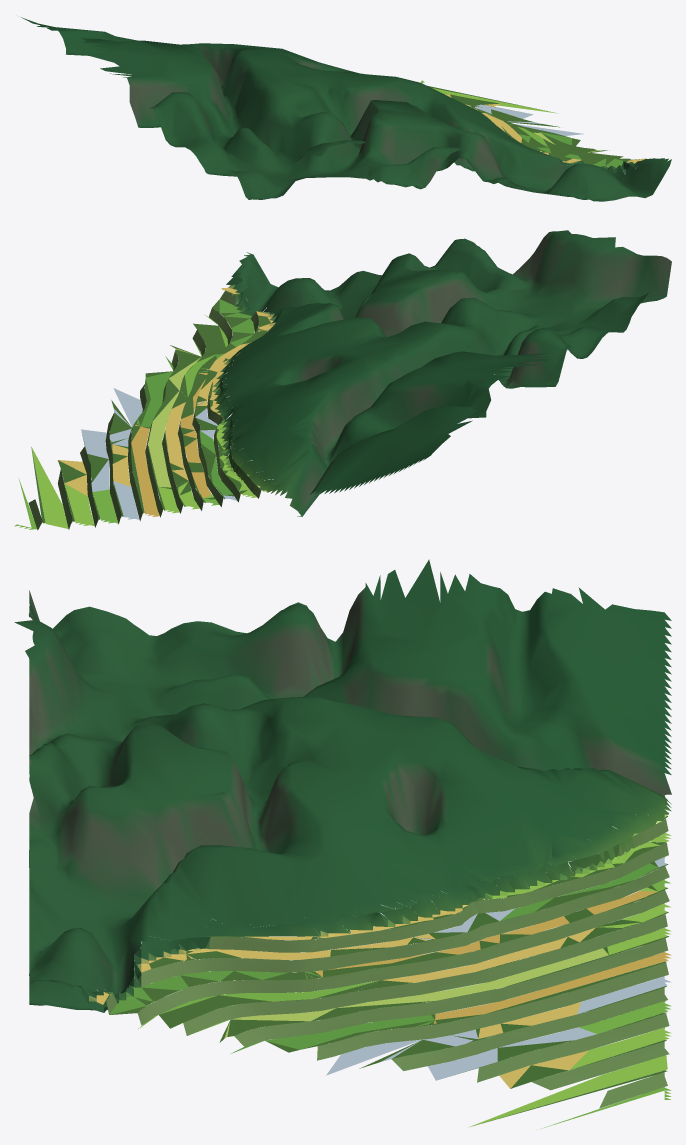
Rendered from payo_land_xm1_y5_lod1.glb.
3 renders of one model, top to bottom at view 1: azimuth 30°, elevation 25°; view 2: azimuth 150°, elevation 25°; view 3: azimuth 270°, elevation 25°, orthographic. The views are drawn at different scales.
Parts seen in each view (by area): view 1: payo_land_xm1_y5; view 2: payo_land_xm1_y5; view 3: payo_land_xm1_y5.
Part boxes in pixels (x1,y1,x2,y2): payo_land_xm1_y5: (21, 17, 671, 201); payo_land_xm1_y5: (14, 230, 671, 530); payo_land_xm1_y5: (14, 559, 671, 1128).
Size of the model in its own units: 301 by 116 by 264.
